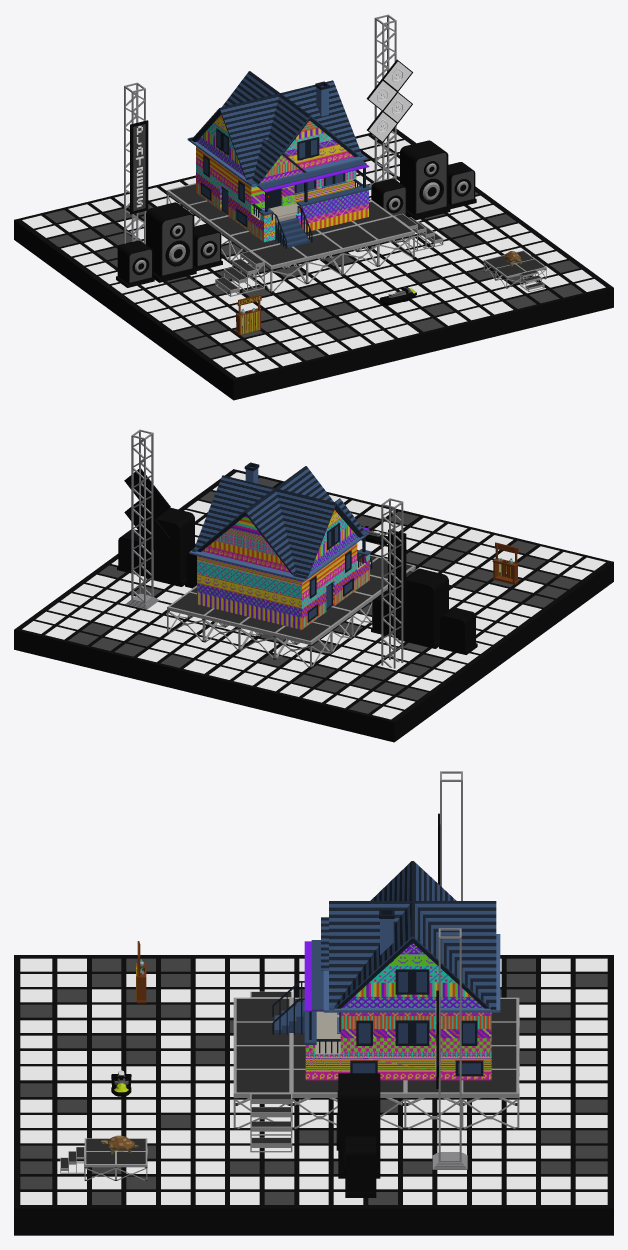
3 renders of one model, top to bottom at view 1: azimuth 30°, elevation 25°; view 2: azimuth 150°, elevation 25°; view 3: azimuth 270°, elevation 25°, orthographic. The views are drawn at different scales.
Parts seen in each view (by area): view 1: Cube.008, Cube.676, OBJRANDOM_LEMONADE_STAND; view 2: Cube.008, Cube.676, OBJRANDOM_LEMONADE_STAND; view 3: Cube.008, Cube.676.
Boxes of the visible parts, x1,y1,x2,y2 form: Cube.008: [14, 14, 613, 400]; Cube.676: [187, 71, 371, 248]; OBJRANDOM_LEMONADE_STAND: [235, 294, 261, 335]; Cube.008: [14, 429, 613, 742]; Cube.676: [189, 462, 372, 629]; OBJRANDOM_LEMONADE_STAND: [492, 542, 518, 584]; Cube.008: [14, 771, 613, 1235]; Cube.676: [272, 861, 500, 1080].
Bounding box in the file's own units: 4000 × 1988 × 4000.
41 materials, 5 textured.
